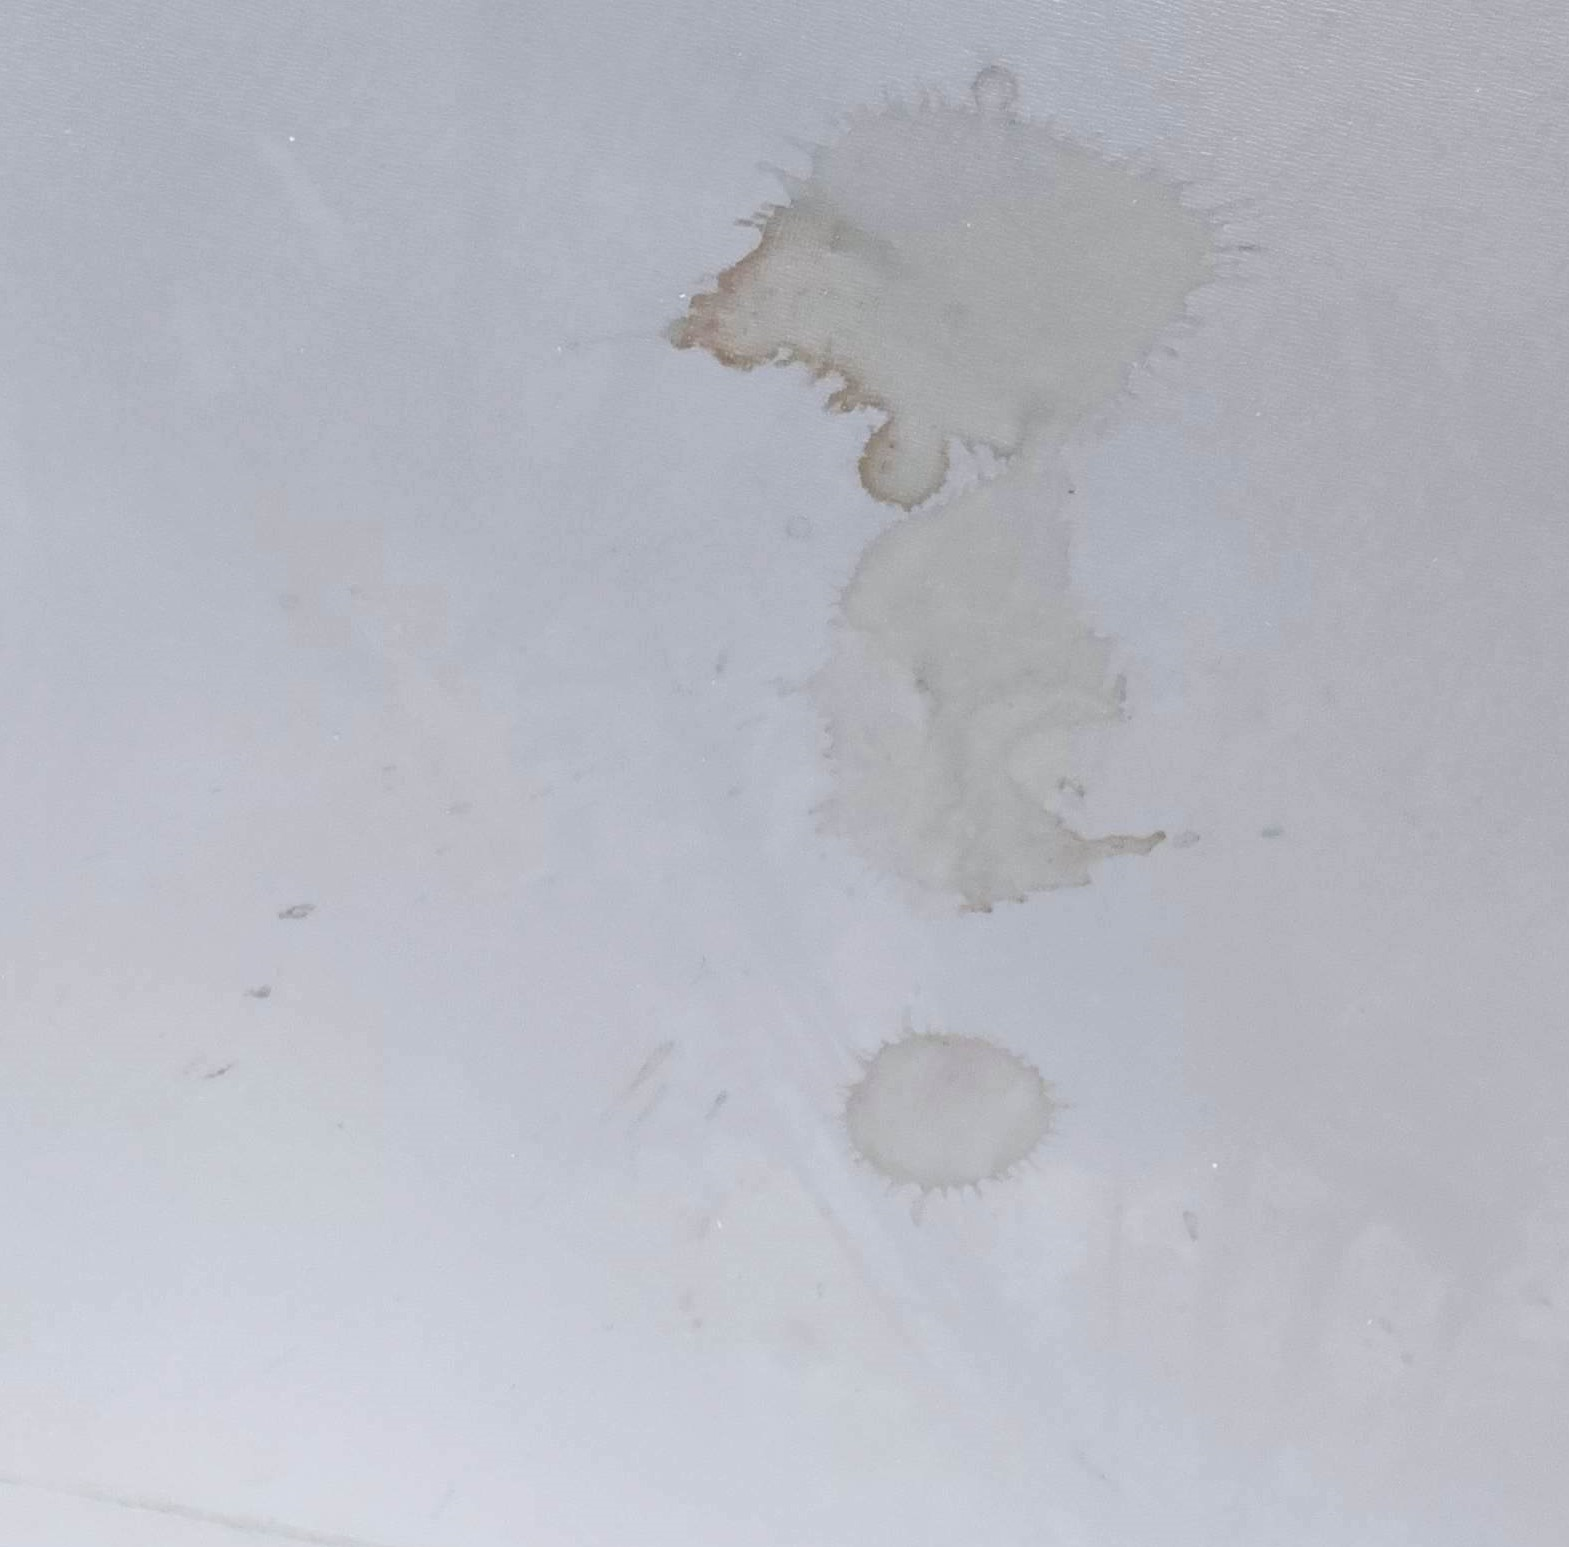grey spot: (668, 64, 1260, 921), (827, 1009, 1071, 1230)
